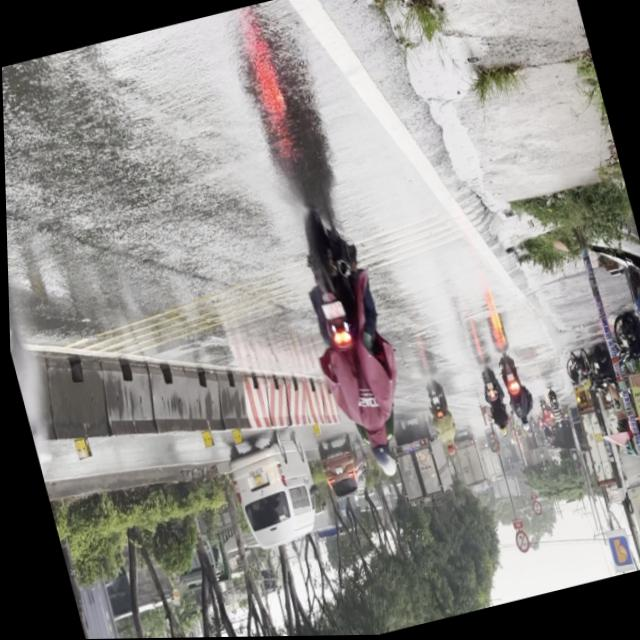helmet: (359, 426, 391, 472), (375, 454, 394, 479)
licenseplate: (276, 195, 420, 489), (4, 176, 98, 610)
nohelmet: (318, 302, 341, 322)
